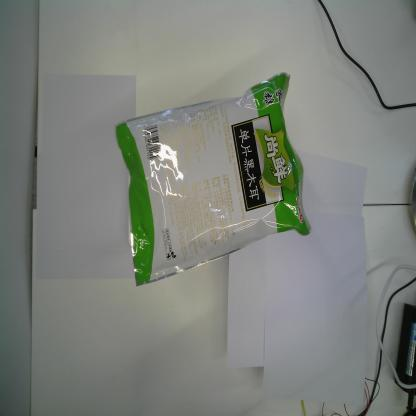Dried Food: (115, 71, 312, 287)
